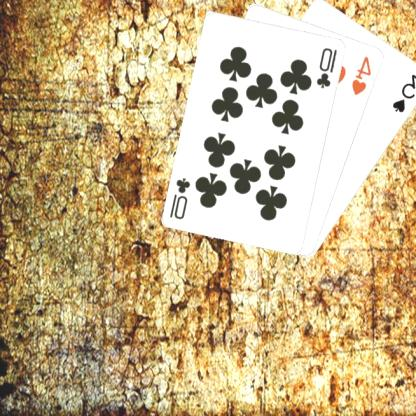10C: (315, 44, 341, 90), (169, 174, 194, 221)
3S: (391, 71, 416, 114)
4H: (351, 52, 375, 96)
